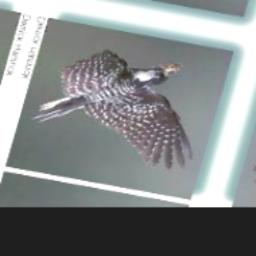Woodpecker: (25, 36, 227, 180)
